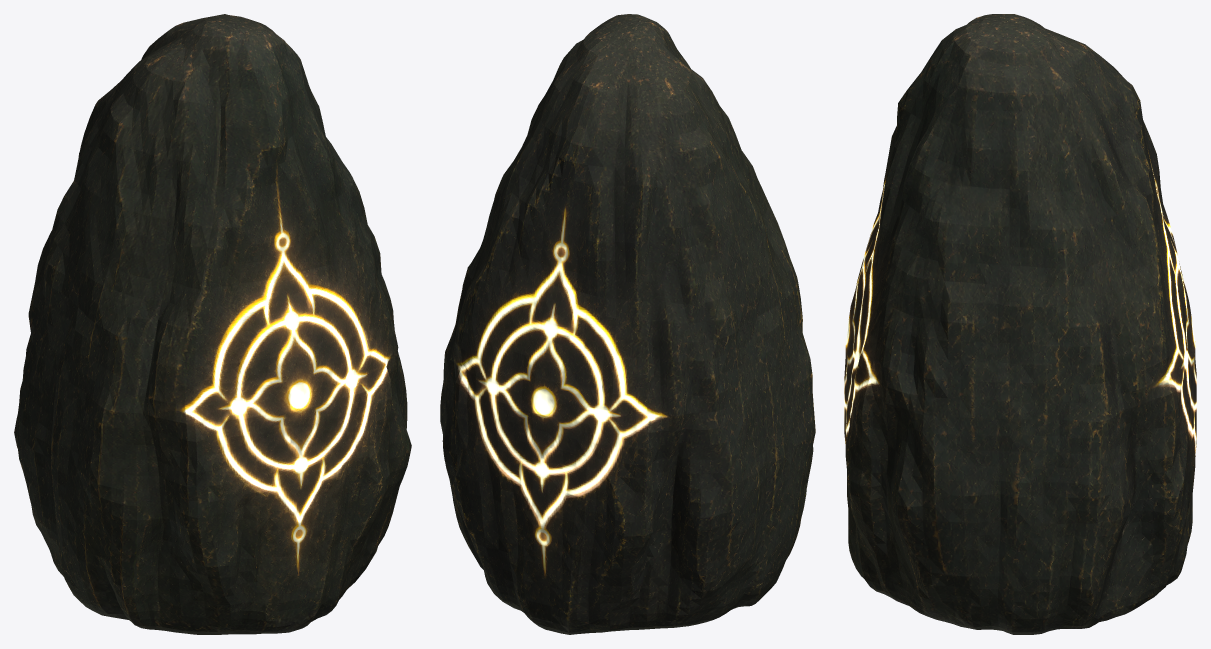
The model's file is glyph_3.glb.
The picture shows the model from 3 angles, left to right: view 1: azimuth 30°, elevation 25°; view 2: azimuth 150°, elevation 25°; view 3: azimuth 270°, elevation 25°; orthographic projection. The views are drawn at different scales.
Bounding box in the file's own units: 1.12 × 1.91 × 1.08.
Materials: 1 (1 with a texture image).
